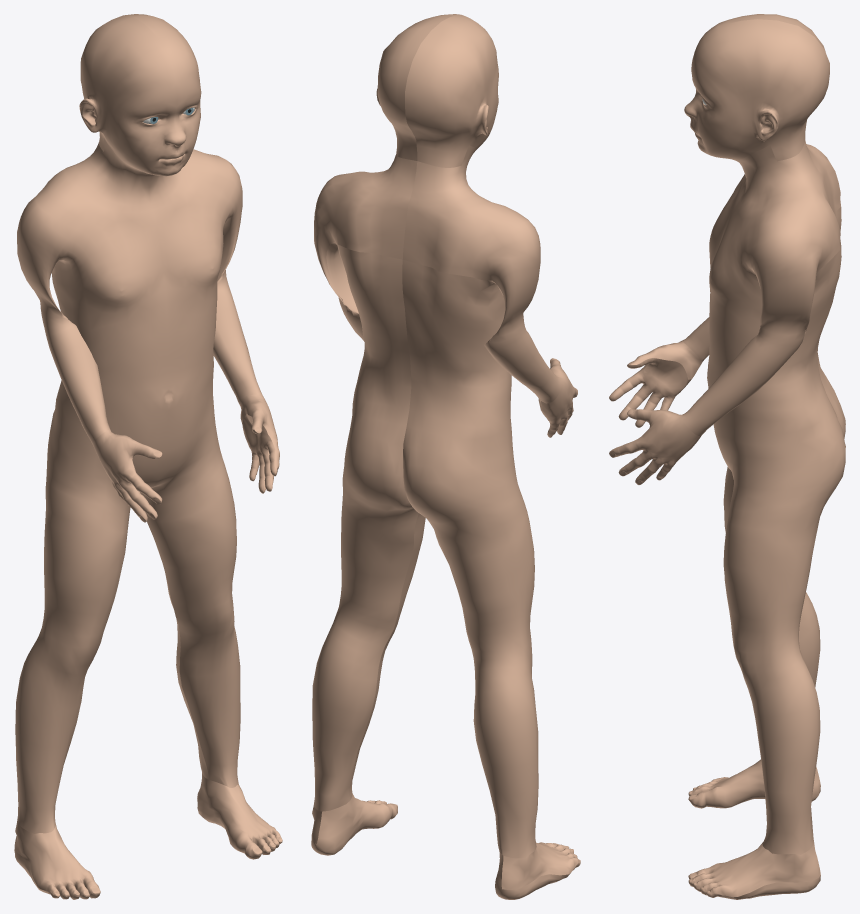
The model's file is body-kleinkind-maennlich-real-v3.glb.
3 renders of one model, left to right at view 1: azimuth 30°, elevation 25°; view 2: azimuth 150°, elevation 25°; view 3: azimuth 270°, elevation 25°, orthographic.
Visible parts, largest first — view 1: real-human-body; view 2: real-human-body; view 3: real-human-body.
Part boxes in pixels (x1,y1,x2,y2): real-human-body: (14,14,282,899); real-human-body: (311,14,580,899); real-human-body: (609,14,845,899).
Bounding box in the file's own units: 0.2922 × 1 × 0.2593.
